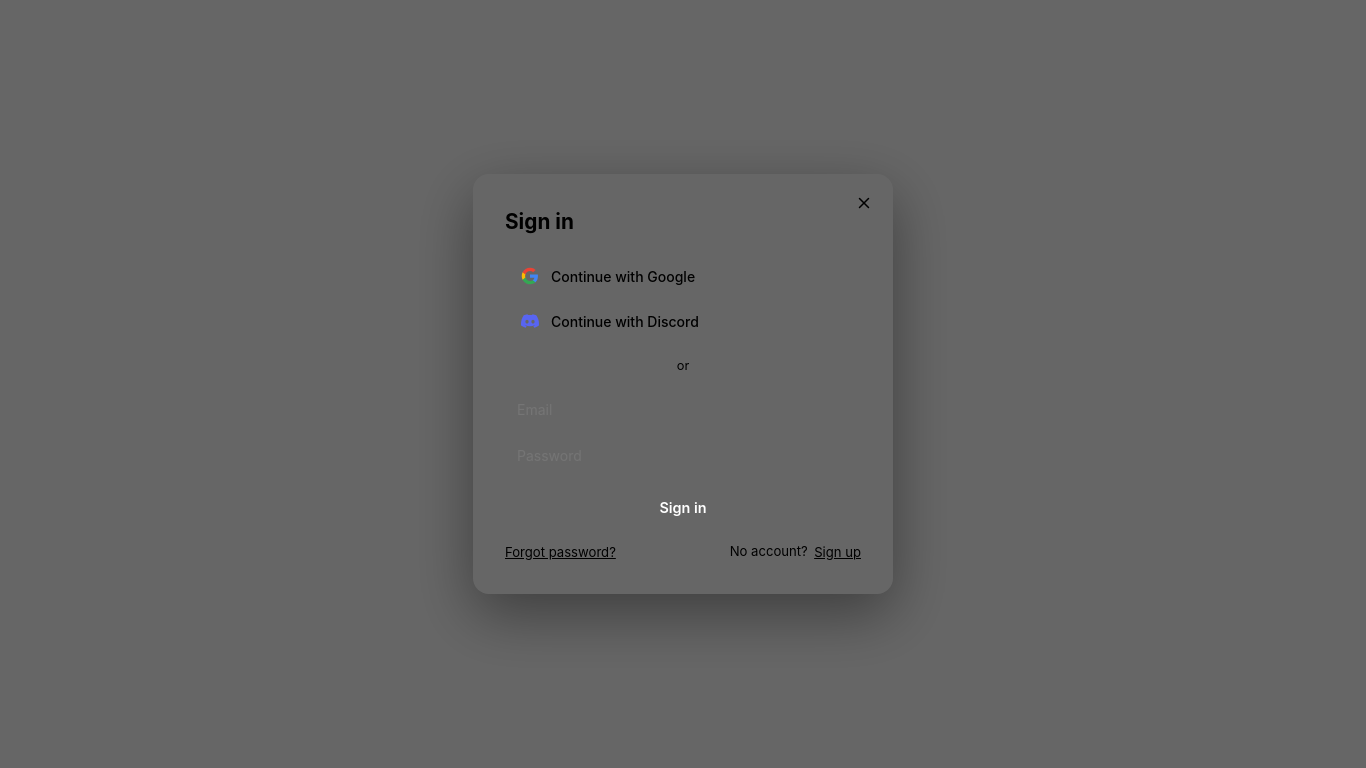
Test case: AuthModal › "Sign up" link switches to signup view
The width and height of the screenshot is (1366, 768).
Click the button "Sign up" at point(838, 552), box [814,544,861,560]
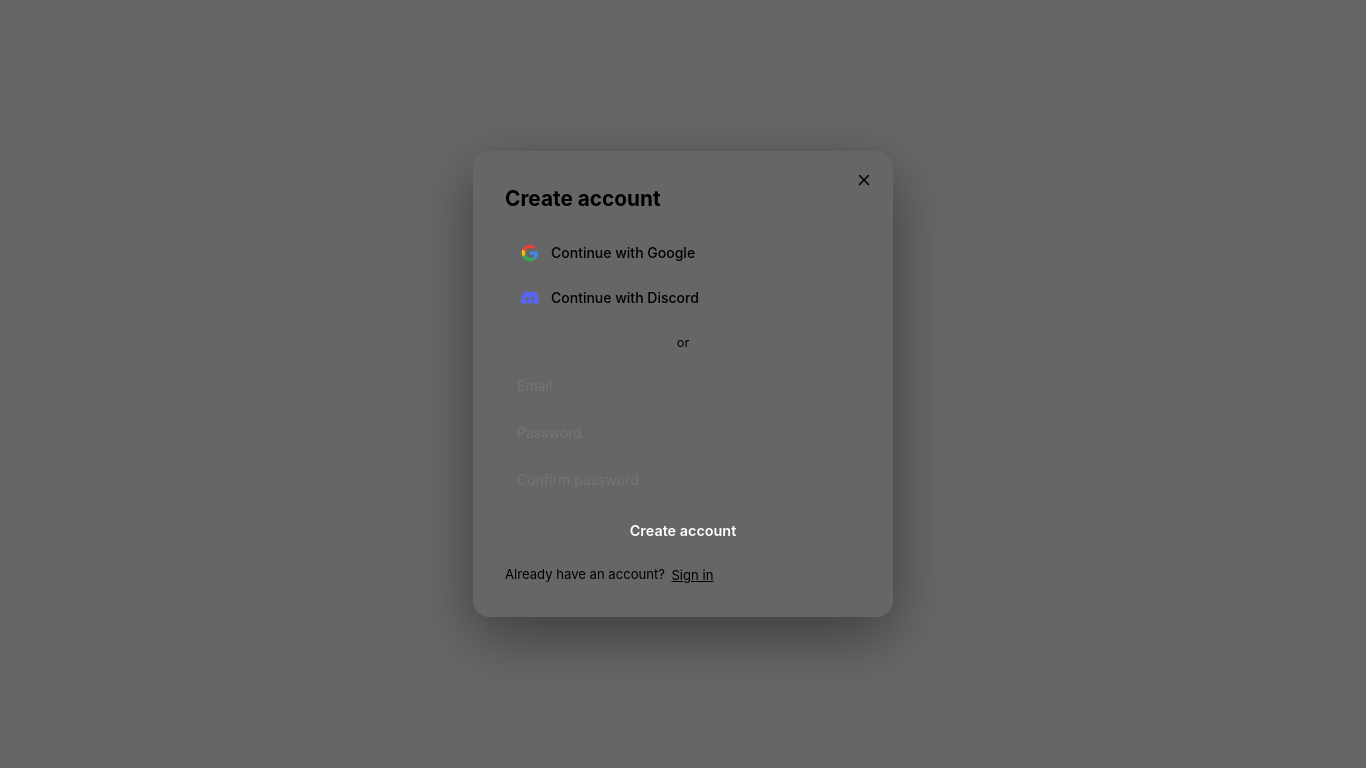
Expected: the heading "Create account" is shown, [505,186,661,211]
